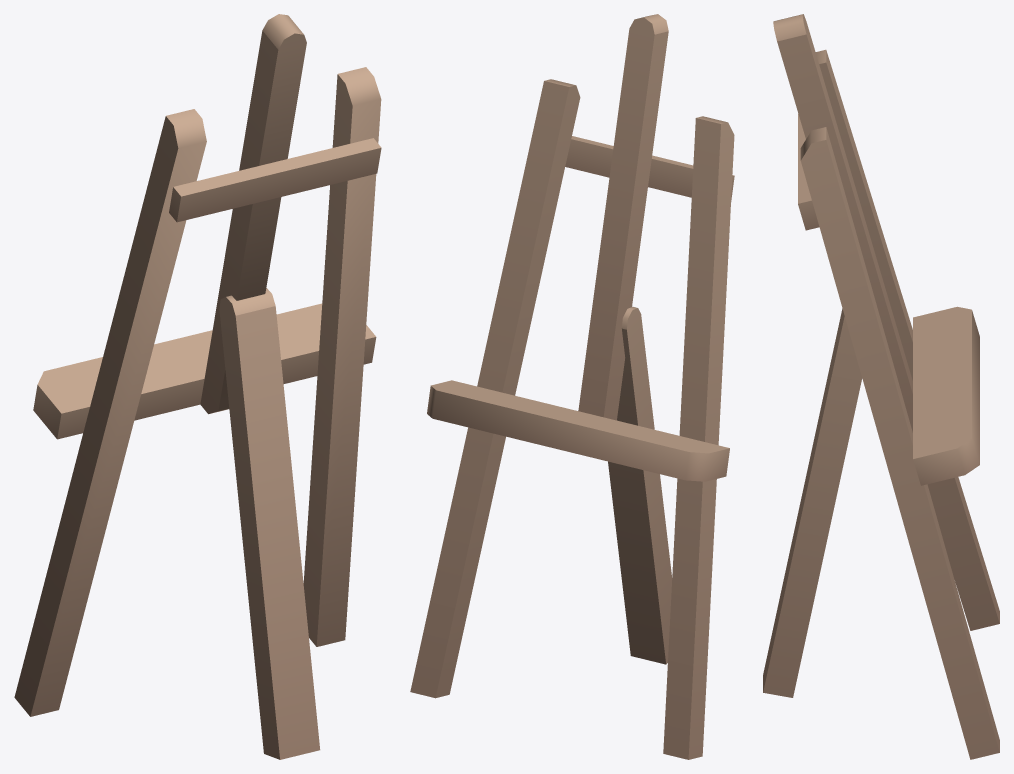
The model's file is easel-empty.glb.
The picture shows the model from 3 angles, left to right: view 1: azimuth 30°, elevation 25°; view 2: azimuth 150°, elevation 25°; view 3: azimuth 270°, elevation 25°; orthographic projection. The views are drawn at different scales.
Parts seen in each view (by area): view 1: easel-empty; view 2: easel-empty; view 3: easel-empty.
Part boxes in pixels (bbox=[...]): easel-empty: bbox=[14, 14, 381, 759]; easel-empty: bbox=[410, 14, 734, 759]; easel-empty: bbox=[763, 14, 999, 759].
Bounding box in the file's own units: 0.55 × 1.22 × 0.3883.
